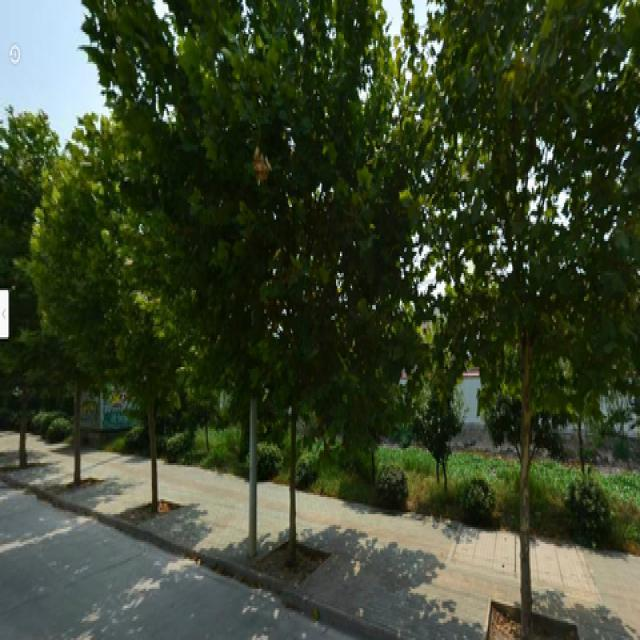meta: (437, 11, 628, 608), (172, 19, 380, 538), (56, 143, 165, 512)
